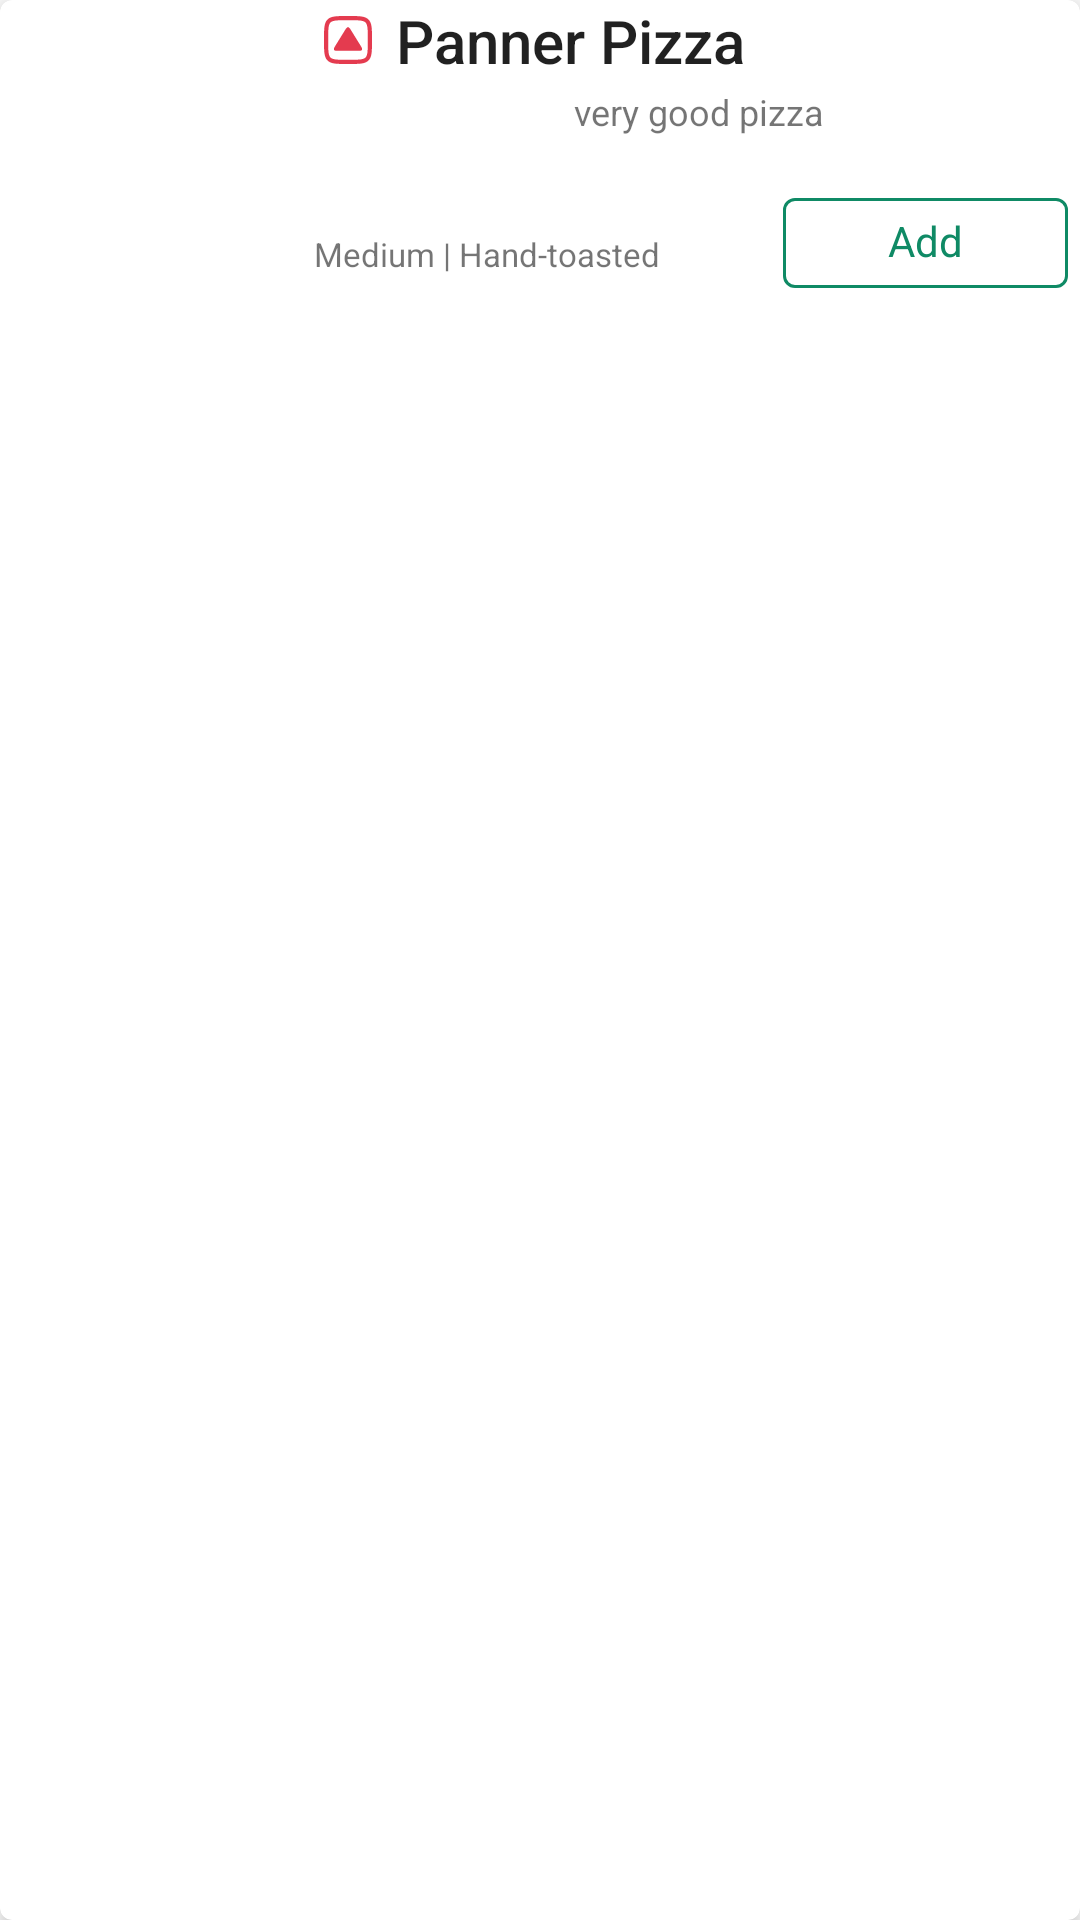

Icon bounding boxes for this 1080w x 1920h phone screenshot, format detection(x1, y1, x2, y2):
non veg: detection(324, 16, 372, 64)
